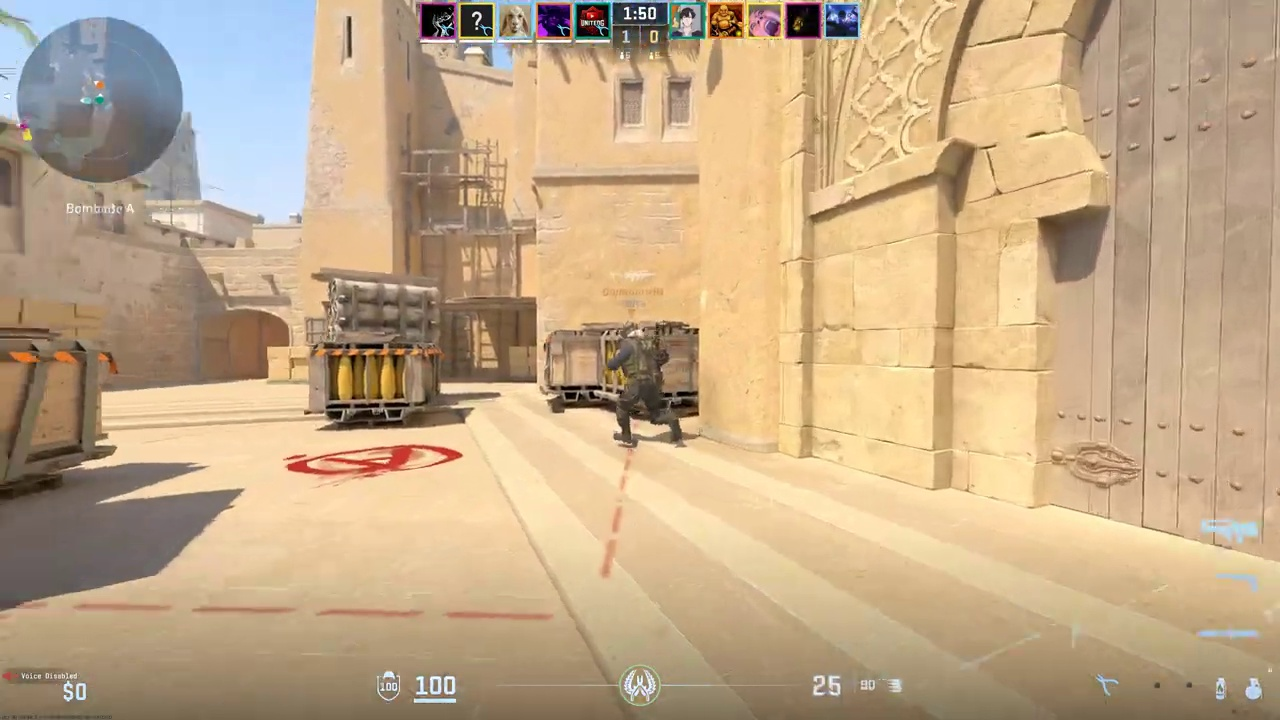CT: (607, 320, 679, 444)
